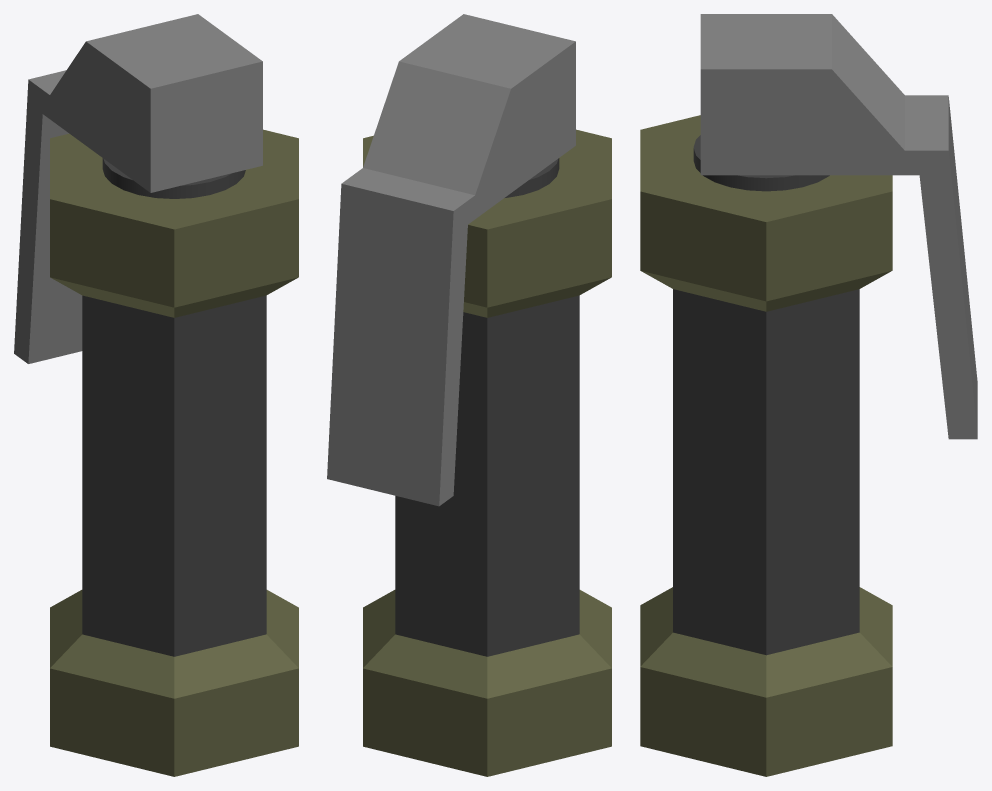
Rendered from grenadeFlash.fbx.
3 renders of one model, left to right at view 1: azimuth 30°, elevation 25°; view 2: azimuth 150°, elevation 25°; view 3: azimuth 270°, elevation 25°, orthographic.
Parts seen in each view (by area): view 1: Mesh1_Group2 Group1 Model, Mesh2_Group3 Group1 Model; view 2: Mesh1_Group2 Group1 Model, Mesh2_Group3 Group1 Model; view 3: Mesh1_Group2 Group1 Model, Mesh2_Group3 Group1 Model.
Boxes of the visible parts, <box> form: Mesh1_Group2 Group1 Model: <box>50,129,298,776</box>; Mesh2_Group3 Group1 Model: <box>14,14,262,363</box>; Mesh1_Group2 Group1 Model: <box>363,129,611,776</box>; Mesh2_Group3 Group1 Model: <box>327,14,575,506</box>; Mesh1_Group2 Group1 Model: <box>640,115,892,776</box>; Mesh2_Group3 Group1 Model: <box>700,14,977,439</box>.
Bounding box in the file's own units: 0.012 × 0.0306 × 0.0139.
